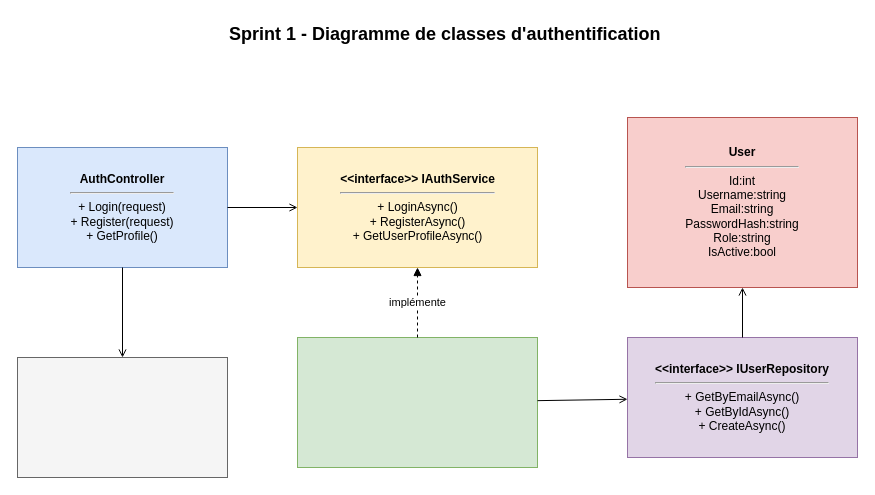
Some shapes in this 875 by 495 pixel diagram are drawn without their labels. The centre of each missing label's shape, as x and y in pixels:
"AuthService - userRepository - jwtSettings + GenerateJwtToken()" goes at [417,402].
"DTOs LoginRequest RegisterRequest AuthResponse UserResponse" goes at [122,417].
